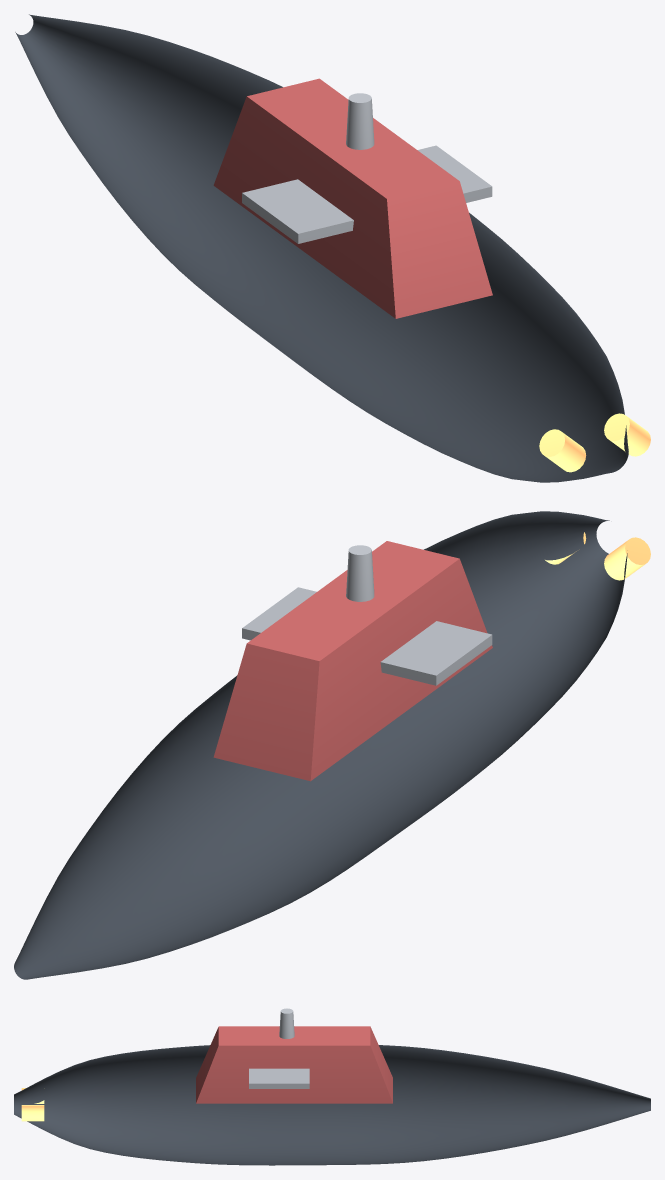
3 views of the same model, one above another, from view 1: azimuth 30°, elevation 25°; view 2: azimuth 150°, elevation 25°; view 3: azimuth 270°, elevation 25° (orthographic). The views are drawn at different scales.
Visible parts, largest first — view 1: Hull; view 2: Hull; view 3: Hull.
Boxes of the visible parts, <box> form: Hull: <box>15,14,650,482</box>; Hull: <box>14,511,650,979</box>; Hull: <box>14,1008,650,1165</box>.
Size of the model in its own units: 0.9636 by 1.3 by 5.04.
